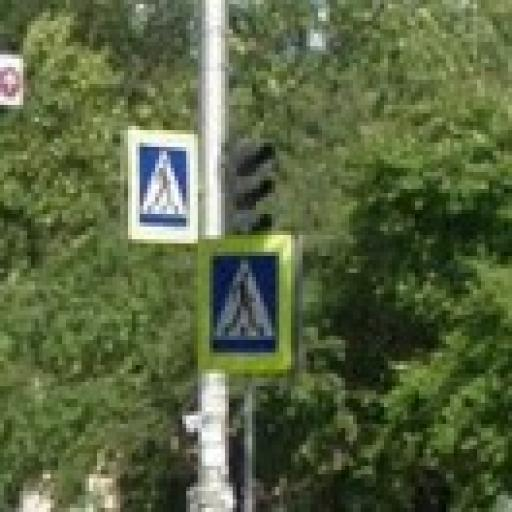traffic_sign: (195, 236, 296, 375), (129, 127, 203, 244)
